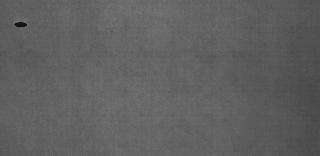punching hole: (14, 22, 28, 28)
